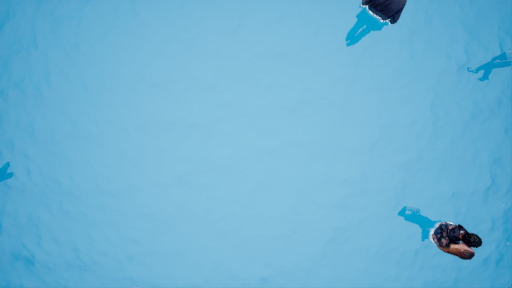person: (397, 194, 486, 261), (347, 1, 409, 50)
